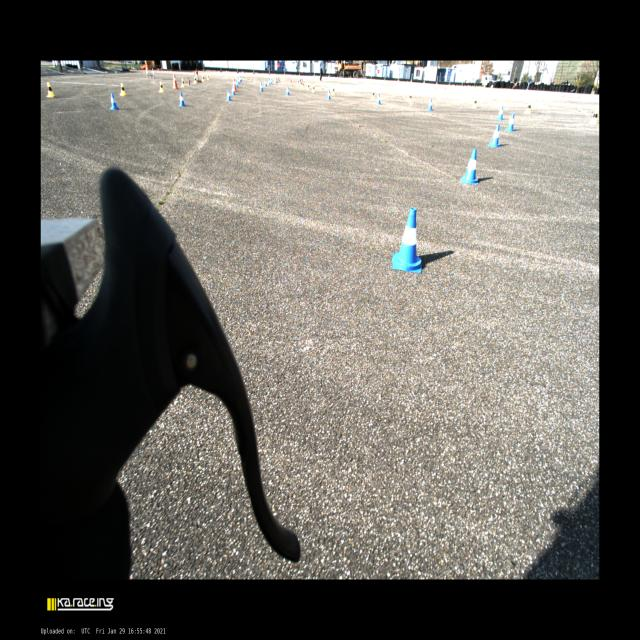blue_cone: (392, 207, 422, 273), (461, 149, 478, 184), (488, 124, 502, 148), (504, 114, 515, 132), (110, 92, 119, 110), (178, 92, 186, 106), (496, 106, 504, 120), (226, 90, 232, 101), (376, 94, 382, 105), (428, 98, 433, 111), (230, 86, 236, 95), (327, 90, 331, 100), (286, 86, 290, 95), (264, 79, 268, 87), (260, 84, 263, 92), (268, 79, 271, 85), (260, 81, 262, 89), (270, 78, 272, 85), (274, 78, 276, 85), (236, 80, 238, 87), (238, 77, 240, 84), (240, 76, 242, 82)
large_orange_cone: (172, 74, 179, 88), (234, 78, 238, 92)
orange_cone: (276, 78, 278, 83), (278, 77, 280, 82), (290, 78, 292, 82), (300, 79, 301, 84)
yellow_cone: (46, 82, 56, 97), (591, 108, 598, 124), (524, 102, 531, 114), (120, 83, 126, 96), (159, 81, 164, 92), (472, 98, 477, 109), (408, 92, 413, 102), (370, 90, 375, 99), (181, 78, 185, 87), (193, 76, 197, 84), (306, 83, 310, 90), (332, 87, 335, 95), (312, 85, 315, 92), (202, 75, 204, 82), (207, 74, 209, 80), (302, 83, 304, 88), (297, 80, 299, 84)
